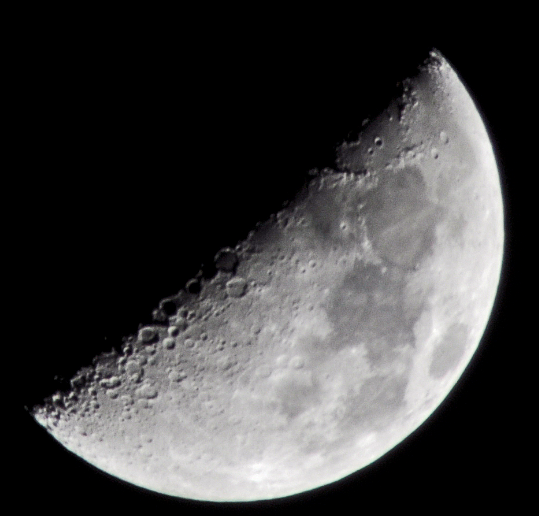crater: (362, 159, 438, 283), (219, 274, 256, 309), (288, 347, 313, 378), (436, 119, 459, 150), (121, 358, 148, 384), (156, 294, 184, 319), (135, 324, 161, 349), (331, 216, 355, 239), (225, 408, 244, 427), (371, 131, 387, 149), (181, 336, 198, 352)
